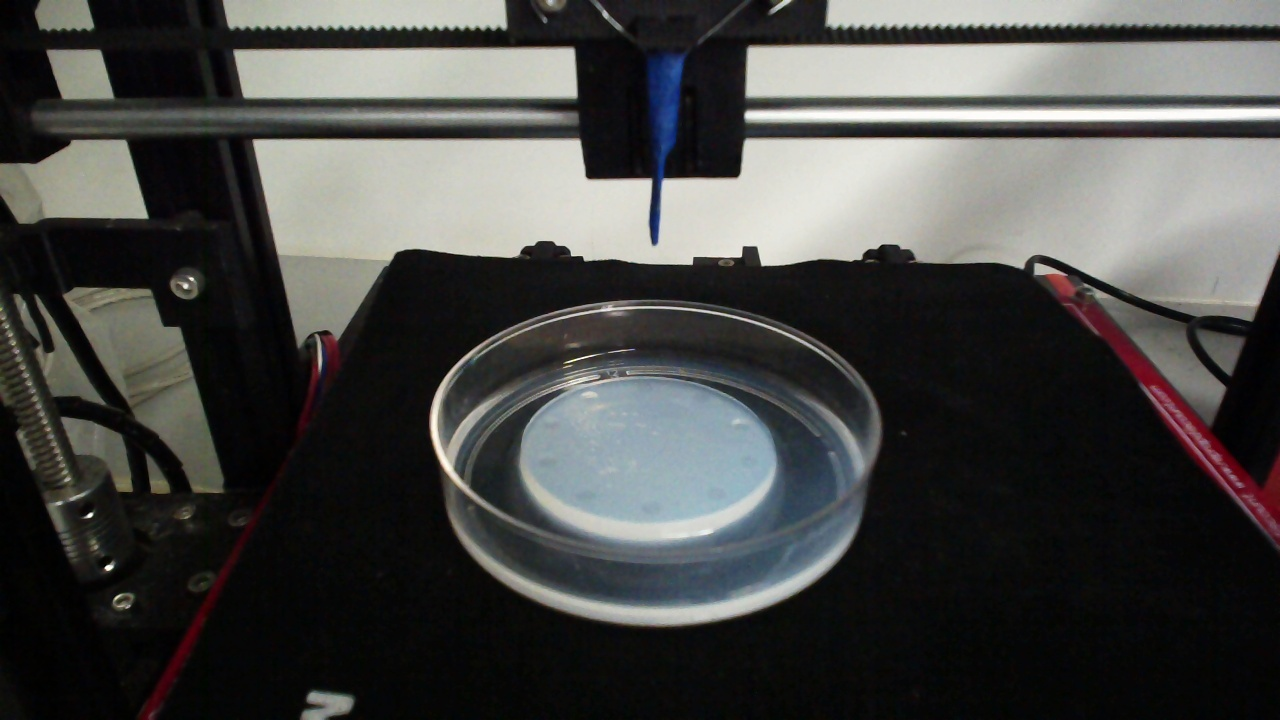groove: (640, 498, 662, 517), (571, 488, 596, 502), (536, 454, 559, 469), (689, 388, 710, 404), (704, 486, 725, 501), (737, 456, 759, 470), (579, 389, 598, 405), (540, 415, 559, 431), (635, 380, 654, 395), (731, 419, 752, 432)
needle: (647, 54, 683, 244)
